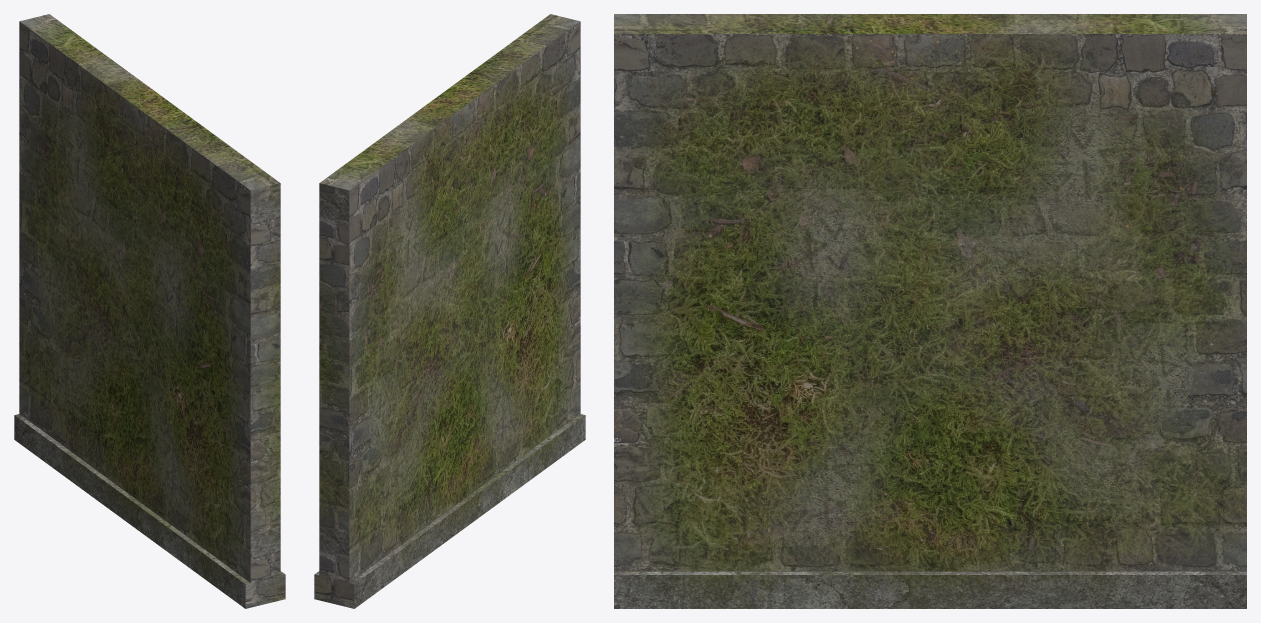
The model's file is Wall_Lvl3_6.fbx.
3 views of the same model, side by side, from view 1: azimuth 30°, elevation 25°; view 2: azimuth 150°, elevation 25°; view 3: azimuth 270°, elevation 25° (orthographic). The views are drawn at different scales.
Visible parts, largest first — view 1: wall.002; view 2: wall.002; view 3: wall.002.
Part boxes in pixels (x1=…): wall.002: x1=14, y1=14, x2=285, y2=608; wall.002: x1=314, y1=14, x2=585, y2=608; wall.002: x1=614, y1=14, x2=1246, y2=608.
Size of the model in its own units: 40 by 399 by 400.
Materials: 1 (1 with a texture image).
